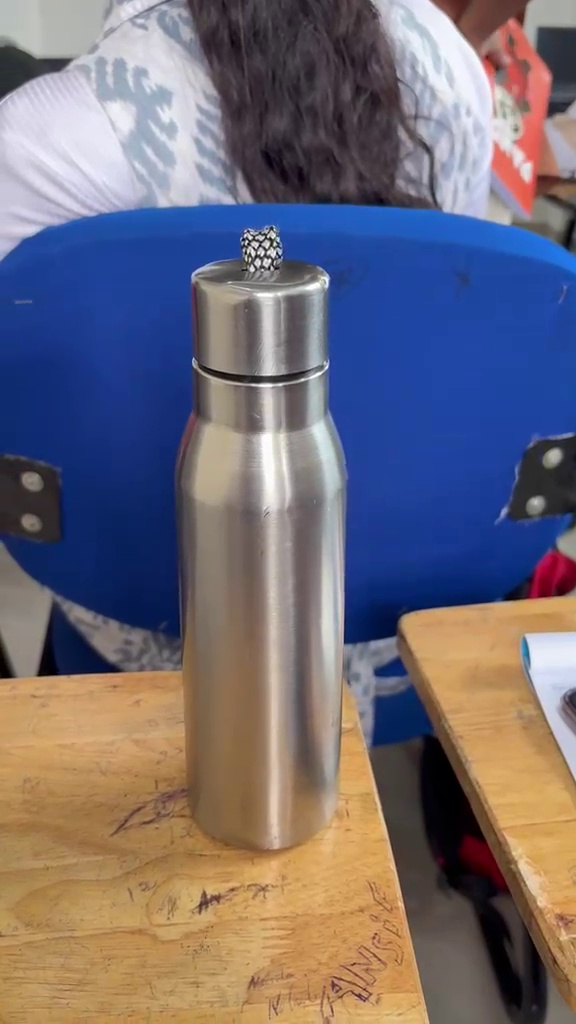Bottle: (152, 200, 395, 878)
